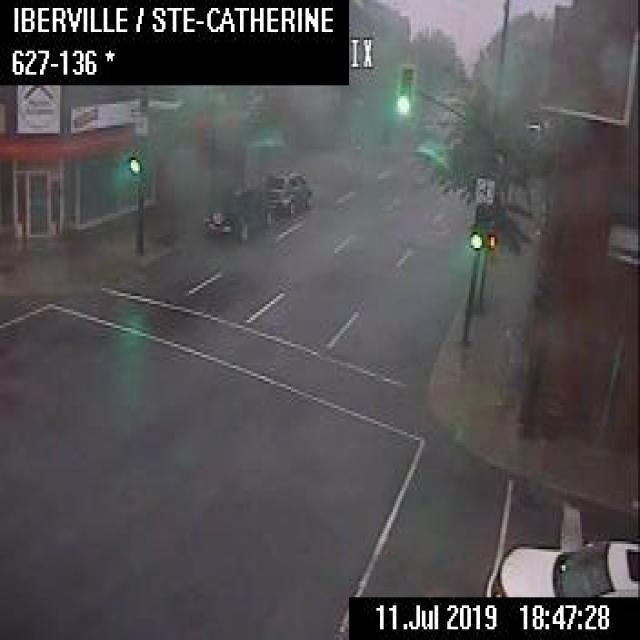vehicle: (484, 536, 638, 594), (202, 184, 272, 242), (260, 166, 310, 218)
